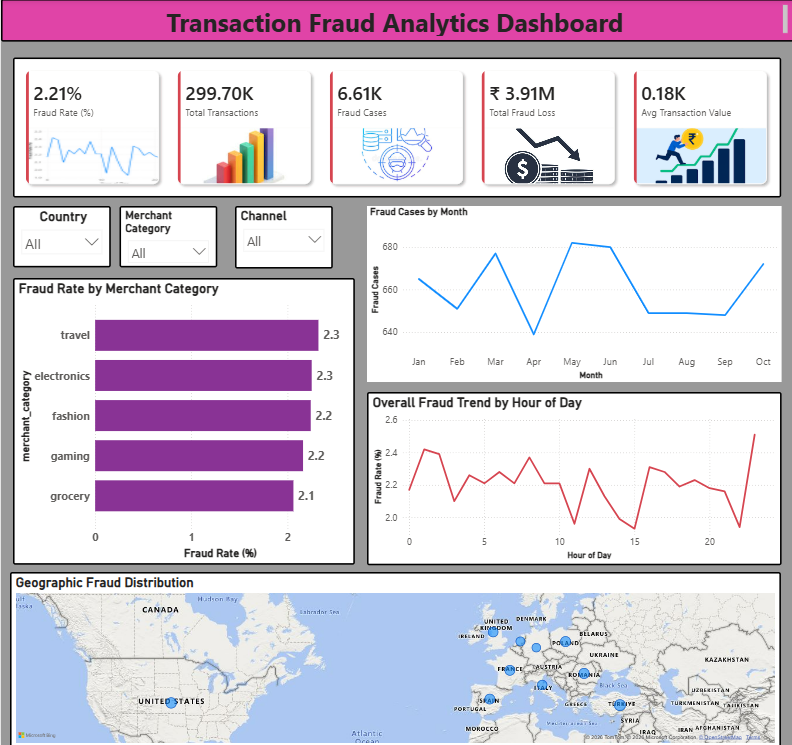

This screenshot's page, from the dashboard's own definition file:
{"tool":"powerbi","page":{"name":"Page 1","canvas":[1351,1280],"ordinal":0},"visuals":[{"type":"lineChart","title":"Overall Fraud Trend by Hour of Day","fields":{"Y":["Sum(hourly_fraud_analysis.fraud_rate)"],"Category":["hourly_fraud_analysis.Hour Label"]},"box":[545.9,672.1,785.2,291.8],"z":0},{"type":"clusteredBarChart","title":"Fraud Rate by Merchant Category","fields":{"Category":["merchant_risk.merchant_category"],"Y":["Sum(merchant_risk.fraud_rate)"]},"box":[21.3,473.8,504.9,491.8],"z":1000},{"type":"map","title":"Geographic Fraud Distribution","fields":{"Category":["country_risk.country"],"Size":["Sum(country_risk.fraud_cases)"]},"box":[15.9,976.2,1314.3,303.2],"z":2000},{"type":"slicer","title":"Country","fields":{"Values":["country_risk.country"]},"box":[20.6,352.4,166.7,104.8],"z":3000},{"type":"slicer","title":"Merchant Category","fields":{"Values":["merchant_risk.merchant_category"]},"box":[203.2,352.4,166.7,104.8],"z":4000},{"type":"slicer","title":"Channel","fields":{"Values":["channel_risk.channel"]},"box":[400,352.4,166.7,106.3],"z":5000},{"type":"textbox","box":[0,0,1351.1,72.3],"z":6000},{"type":"cardVisual","fields":{"Data":["avs_analysis.Fraud Rate","Count(transactions.transaction_id)","avs_analysis.Fraud Cases","Sum(fraud_summary.fraud_loss)","avs_analysis.Avg Transaction Amount"]},"box":[20,100,1309.2,238.5],"z":7000},{"type":"lineChart","title":"Fraud Cases by Month","fields":{"Y":["Sum(monthly_fraud_analysis.fraud_cases)"],"Category":["monthly_fraud_analysis.Month Name"]},"box":[578.7,352.5,750.8,300],"z":8000}]}

Visuals, with their boxes in screenshot pixels (x1, y1, x2, y2), scaled from the page's 1351x1280 canvas onto the 792x745 screenshot:
"Overall Fraud Trend by Hour of Day" lineChart: <region>320, 391, 780, 561</region>
"Fraud Rate by Merchant Category" clusteredBarChart: <region>12, 276, 308, 562</region>
"Geographic Fraud Distribution" map: <region>9, 568, 780, 744</region>
"Country" slicer: <region>12, 205, 110, 266</region>
"Merchant Category" slicer: <region>119, 205, 217, 266</region>
"Channel" slicer: <region>234, 205, 332, 267</region>
textbox: <region>0, 0, 791, 42</region>
cardVisual - avs_analysis.Fraud Rate x Count(transactions.transaction_id): <region>12, 58, 779, 197</region>
"Fraud Cases by Month" lineChart: <region>339, 205, 779, 380</region>
